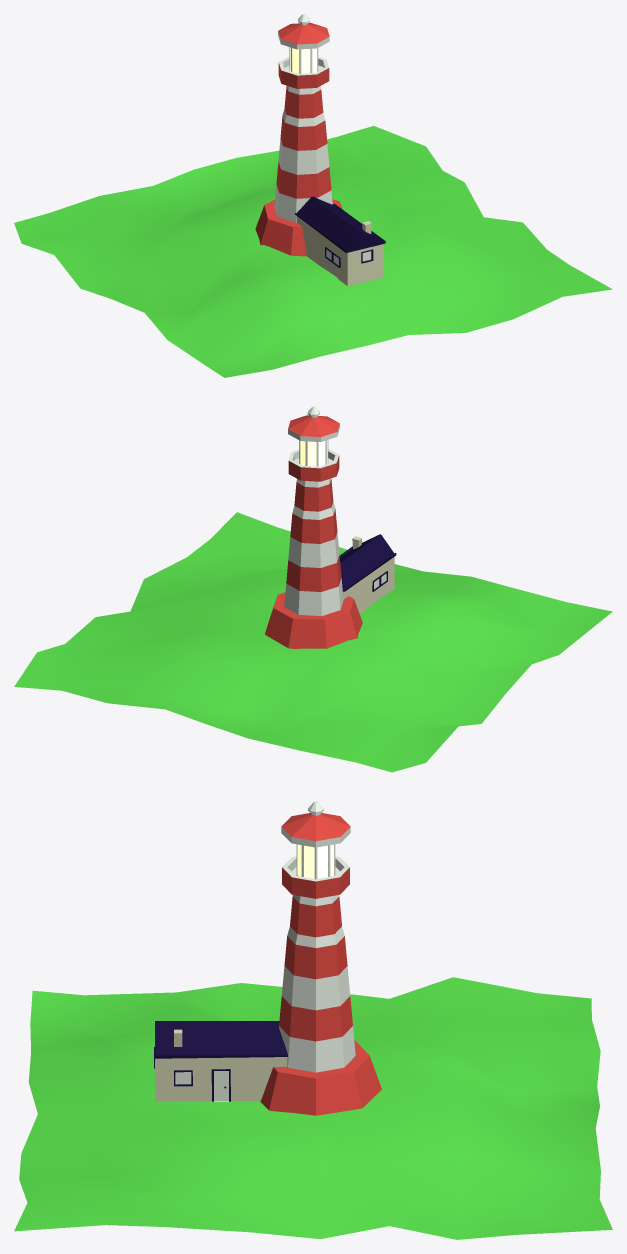
The model's file is islaFaro.gltf.
3 renders of one model, top to bottom at view 1: azimuth 30°, elevation 25°; view 2: azimuth 150°, elevation 25°; view 3: azimuth 270°, elevation 25°, orthographic. The views are drawn at different scales.
Parts seen in each view (by area): view 1: Plane, faro, Cube; view 2: Plane, faro, Cube; view 3: Plane, faro, Cube.
Part boxes in pixels (x1,y1,x2,y2): Plane: (14, 125, 612, 377); faro: (255, 14, 342, 256); Cube: (295, 196, 385, 286); Plane: (14, 512, 612, 772); faro: (265, 406, 362, 648); Cube: (339, 534, 396, 613); Plane: (14, 977, 612, 1239); faro: (260, 801, 381, 1115); Cube: (154, 1021, 287, 1101).
Size of the model in its own units: 17.31 by 10.37 by 17.47.
